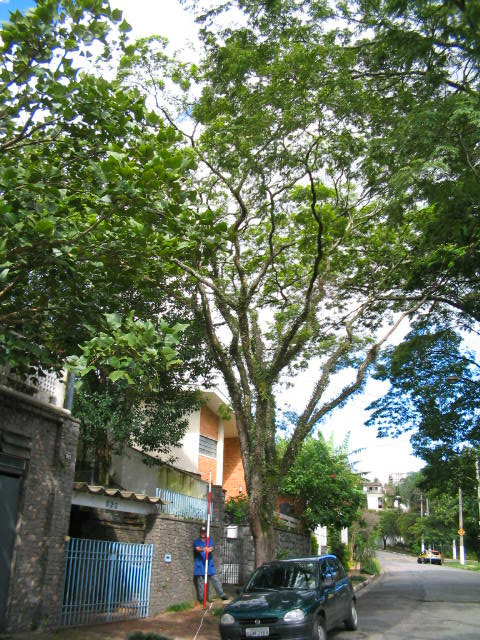stem: (233, 490, 287, 601)
stick: (199, 471, 215, 611)
tree: (71, 38, 457, 602)
